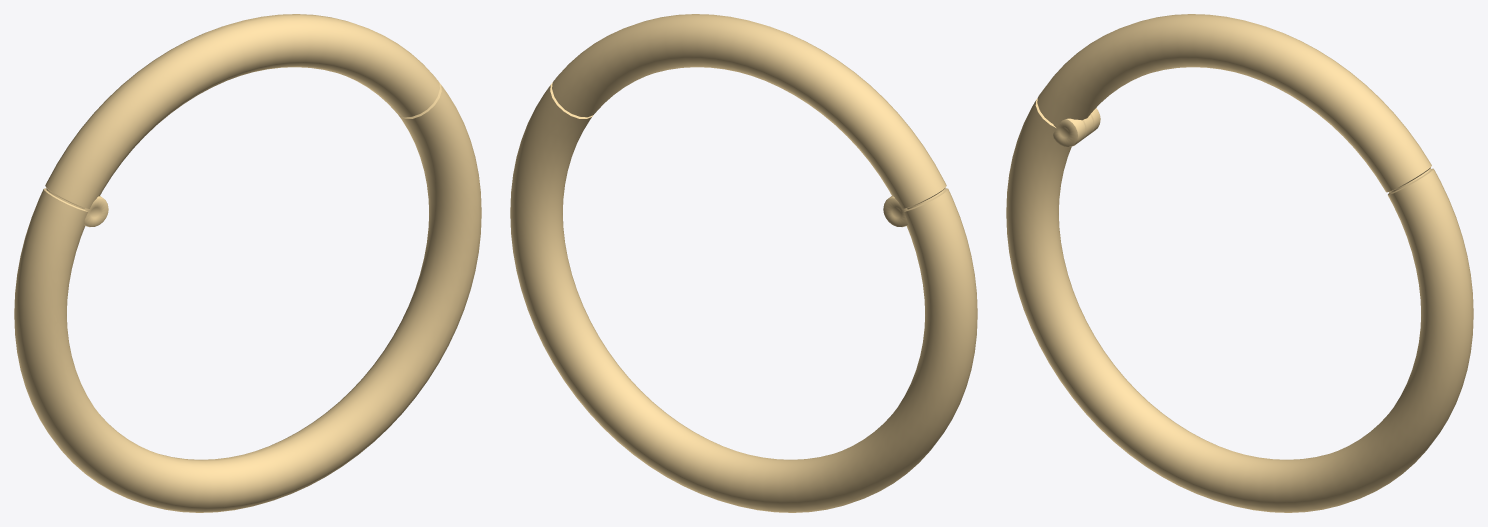
File: hoop_earring.fbx
3 renders of one model, left to right at view 1: azimuth 30°, elevation 25°; view 2: azimuth 150°, elevation 25°; view 3: azimuth 330°, elevation 25°, orthographic.
Visible parts, largest first — view 1: hoop_earring; view 2: hoop_earring; view 3: hoop_earring.
Boxes of the visible parts, left/top/right/bottom form: hoop_earring: left=14, top=14, right=481, bottom=512; hoop_earring: left=510, top=14, right=977, bottom=512; hoop_earring: left=1006, top=14, right=1473, bottom=512.
Size of the model in its own units: 0.016 by 0.00158 by 0.016.
